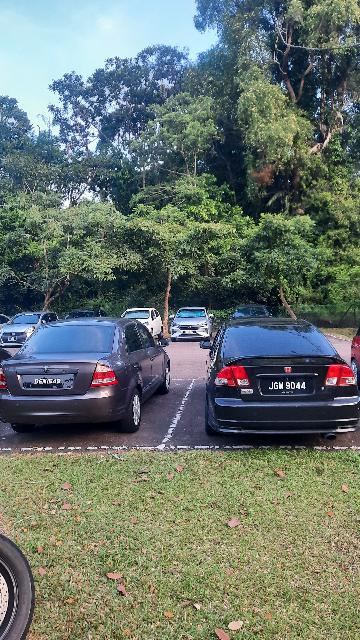License_Plate: (261, 375, 317, 396), (24, 374, 76, 391)
car: (194, 318, 360, 444), (1, 318, 173, 437)
